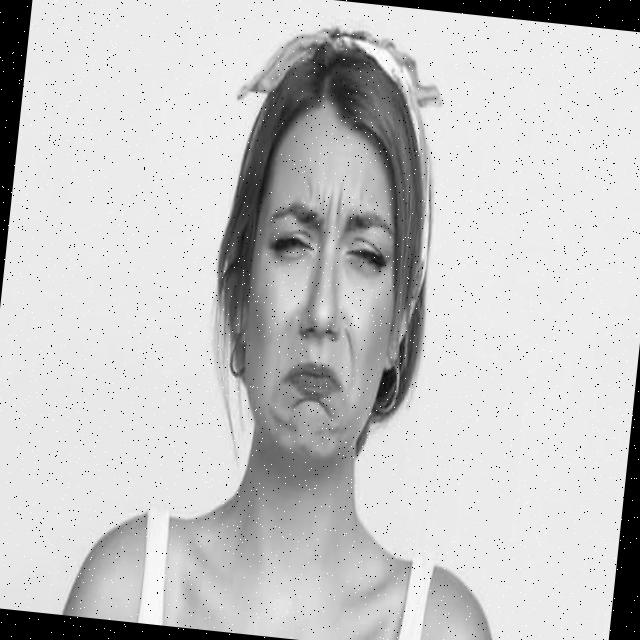Sadness: (235, 106, 399, 460)
